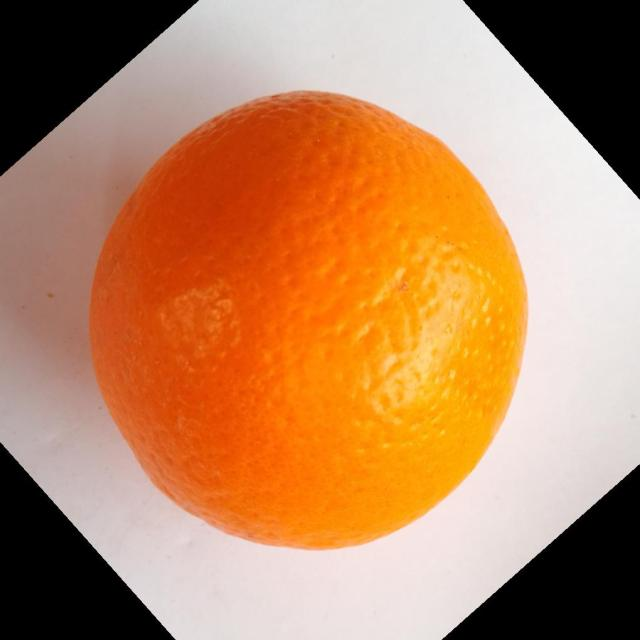fresh orange: (87, 88, 530, 551)
